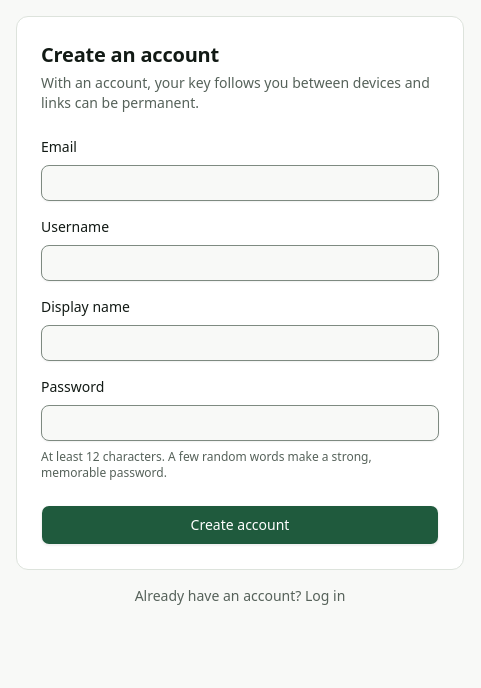
Test: RegisterPage › shows the already-in-use message with a login link on a 409, not the generic fallback
Type "h@example.com" into the field labelled "Email" at [240, 183], box [41,165,439,201]
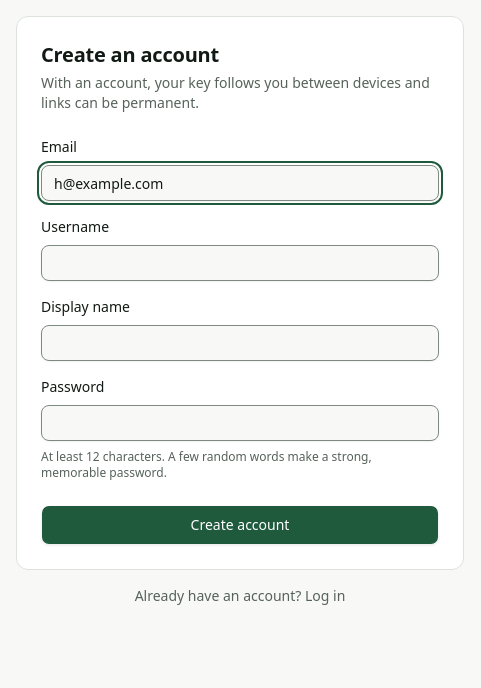
Type "hank" into the field labelled "Username" at [240, 263], box [41,245,439,281]
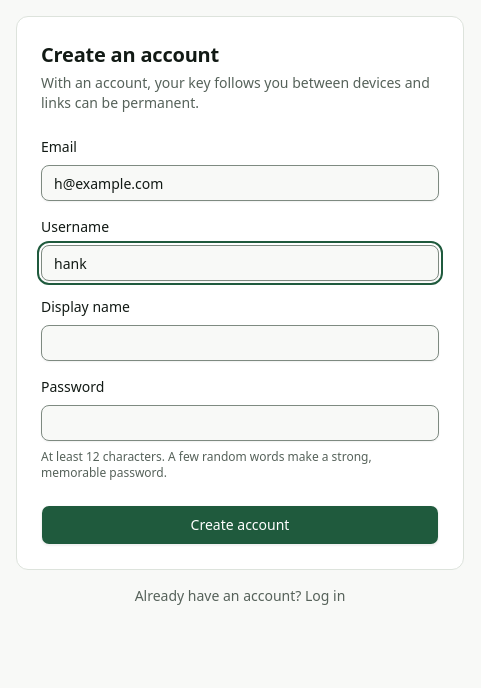
Type "Hank" into the field labelled "Display name" at [240, 343], box [41,325,439,361]
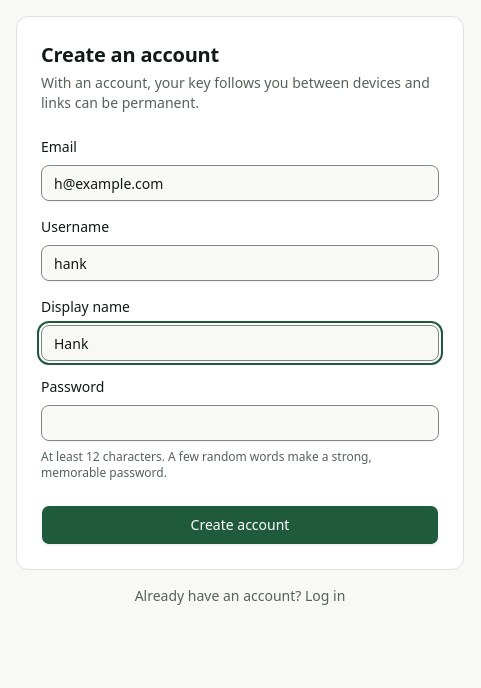
Type "correct horse battery staple" into the password field labelled "Password" at [240, 423], box [41,405,439,441]
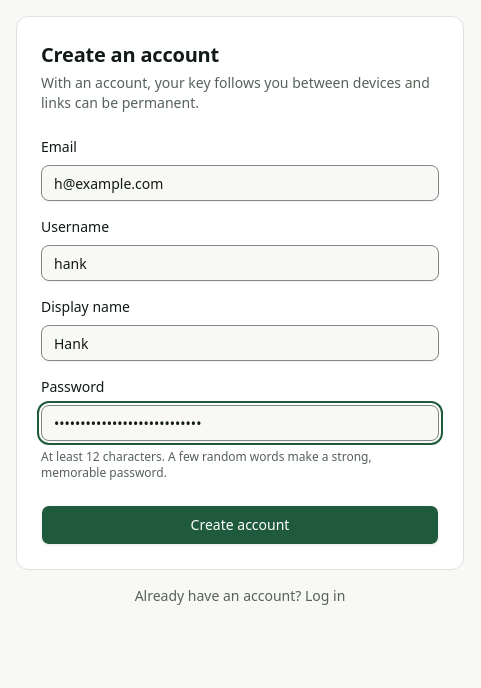
Click the button "Create account" at [240, 525], box [41,505,439,545]
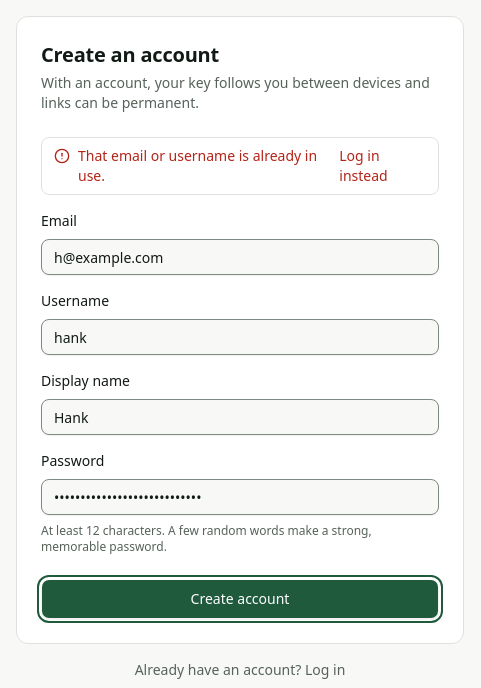
Expected: the message does not show "please try again", [41,137,439,195]
Now the message shows "already in use", box [78,146,317,185]
